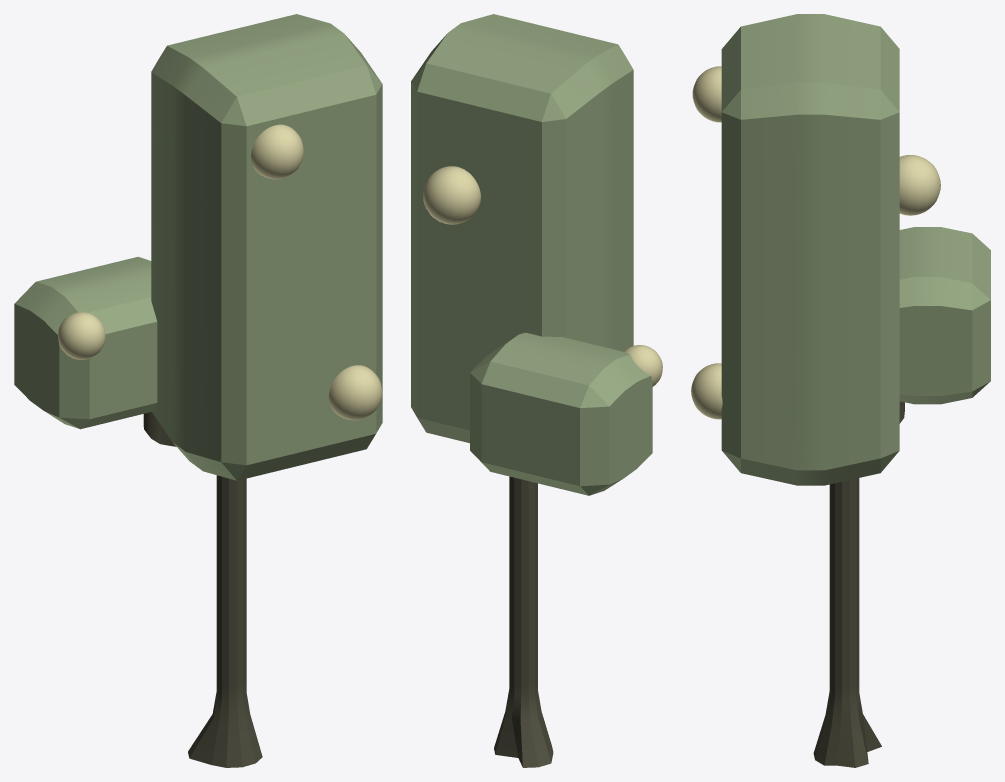
Rendered from HighTree3AppleDark.fbx.
3 views of the same model, side by side, from view 1: azimuth 30°, elevation 25°; view 2: azimuth 150°, elevation 25°; view 3: azimuth 270°, elevation 25° (orthographic). The views are drawn at different scales.
Visible parts, largest first — view 1: pasted__Crown_Big, pasted__Crown_Sml, pasted__Bark, pasted__pasted__pSphere17, pasted__pSphere17, pasted__pasted__pasted__pSphere17; view 2: pasted__Crown_Big, pasted__Crown_Sml, pasted__Bark, pasted__pasted__pSphere18, pasted__pasted__pasted__pSphere17; view 3: pasted__Crown_Big, pasted__Crown_Sml, pasted__Bark, pasted__pasted__pSphere18, pasted__pasted__pSphere17, pasted__pSphere17.
Boxes of the visible parts, x1,y1,x2,y2 form: pasted__Crown_Big: (151,14,382,480); pasted__Crown_Sml: (14,257,157,429); pasted__Bark: (143,412,262,767); pasted__pasted__pSphere17: (329,365,382,420); pasted__pSphere17: (251,124,303,179); pasted__pasted__pasted__pSphere17: (58,312,105,359); pasted__Crown_Big: (411,14,633,443); pasted__Crown_Sml: (470,332,652,495); pasted__Bark: (494,476,553,767); pasted__pasted__pSphere18: (423,166,480,224); pasted__pasted__pasted__pSphere17: (624,345,662,386); pasted__Crown_Big: (721,14,899,485); pasted__Crown_Sml: (899,227,990,404); pasted__Bark: (813,401,904,767); pasted__pasted__pSphere18: (899,155,940,215); pasted__pasted__pSphere17: (691,363,722,419); pasted__pSphere17: (692,66,721,122).
Bounding box in the file's own units: 2.68 × 7.01 × 2.66.
